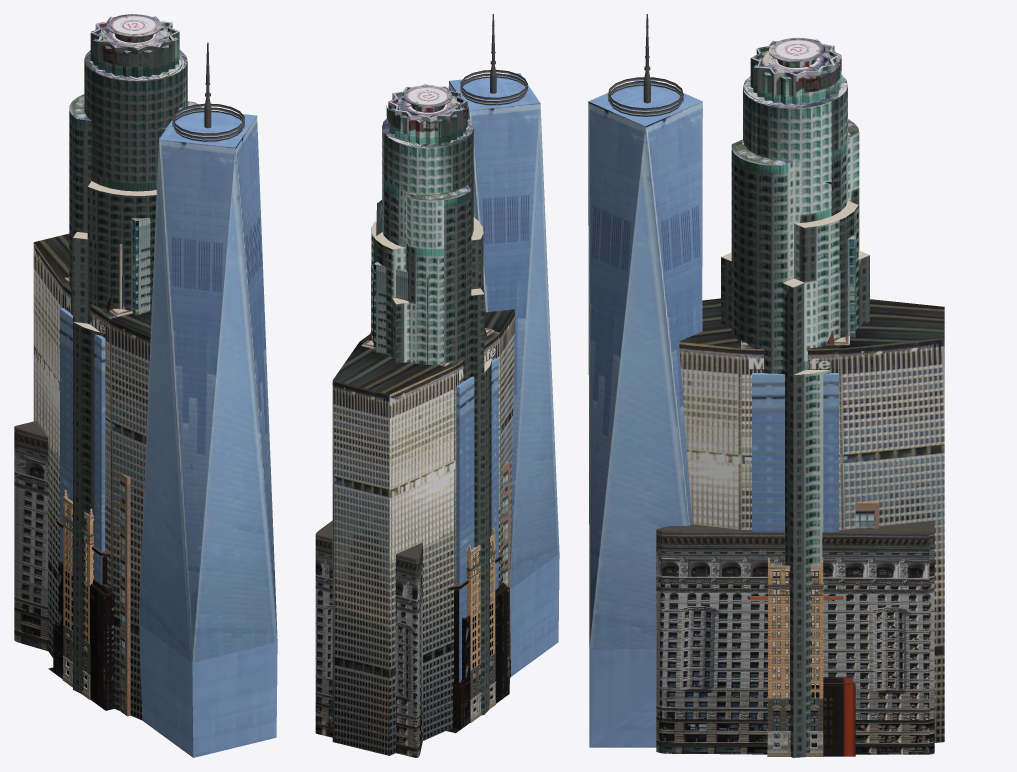
The model's file is city_hq.glb.
3 renders of one model, left to right at view 1: azimuth 30°, elevation 25°; view 2: azimuth 150°, elevation 25°; view 3: azimuth 270°, elevation 25°, orthographic. The views are drawn at different scales.
Parts seen in each view (by area): view 1: nyc14_part (×2), usbank0_part (×3), nyc13_part, nyc18_part, nyc10_part, midcity14_part, whitehall0_part (×2), nyc5_part, nyc17_part; view 2: nyc13_part, nyc14_part (×2), usbank0_part (×4), nyc18_part, nyc10_part, midcity14_part, whitehall0_part (×2), nyc17_part, nyc5_part, midcity2_part; view 3: nyc14_part (×2), usbank0_part (×4), nyc18_part (×2), nyc13_part, nyc10_part, whitehall0_part (×2), midcity14_part, nyc17_part.
Part boxes in pixels (<box>): nyc14_part (×2): <box>138,42,277,757</box>; usbank0_part (×3): <box>69,14,201,693</box>; nyc13_part: <box>33,233,151,720</box>; nyc18_part: <box>14,427,48,650</box>; nyc10_part: <box>60,308,105,584</box>; midcity14_part: <box>48,560,114,710</box>; whitehall0_part (×2): <box>62,490,94,689</box>; nyc5_part: <box>120,473,130,716</box>; nyc17_part: <box>131,218,150,315</box>; nyc13_part: <box>332,309,514,755</box>; nyc14_part (×2): <box>448,14,559,676</box>; usbank0_part (×4): <box>371,84,491,715</box>; nyc18_part: <box>315,534,422,757</box>; nyc10_part: <box>456,358,498,682</box>; midcity14_part: <box>446,582,509,733</box>; whitehall0_part (×2): <box>466,527,496,713</box>; nyc17_part: <box>373,261,428,364</box>; nyc5_part: <box>503,461,509,683</box>; midcity2_part: <box>449,553,501,700</box>; nyc14_part (×2): <box>588,14,702,747</box>; usbank0_part (×4): <box>721,37,869,757</box>; nyc18_part (×2): <box>656,520,934,754</box>; nyc13_part: <box>679,298,944,742</box>; nyc10_part: <box>752,373,838,754</box>; whitehall0_part (×2): <box>766,558,823,752</box>; midcity14_part: <box>812,677,855,756</box>; nyc17_part: <box>847,233,855,337</box>.
Size of the model in its own units: 61.98 by 327 by 172.
44 materials, 41 textured.
